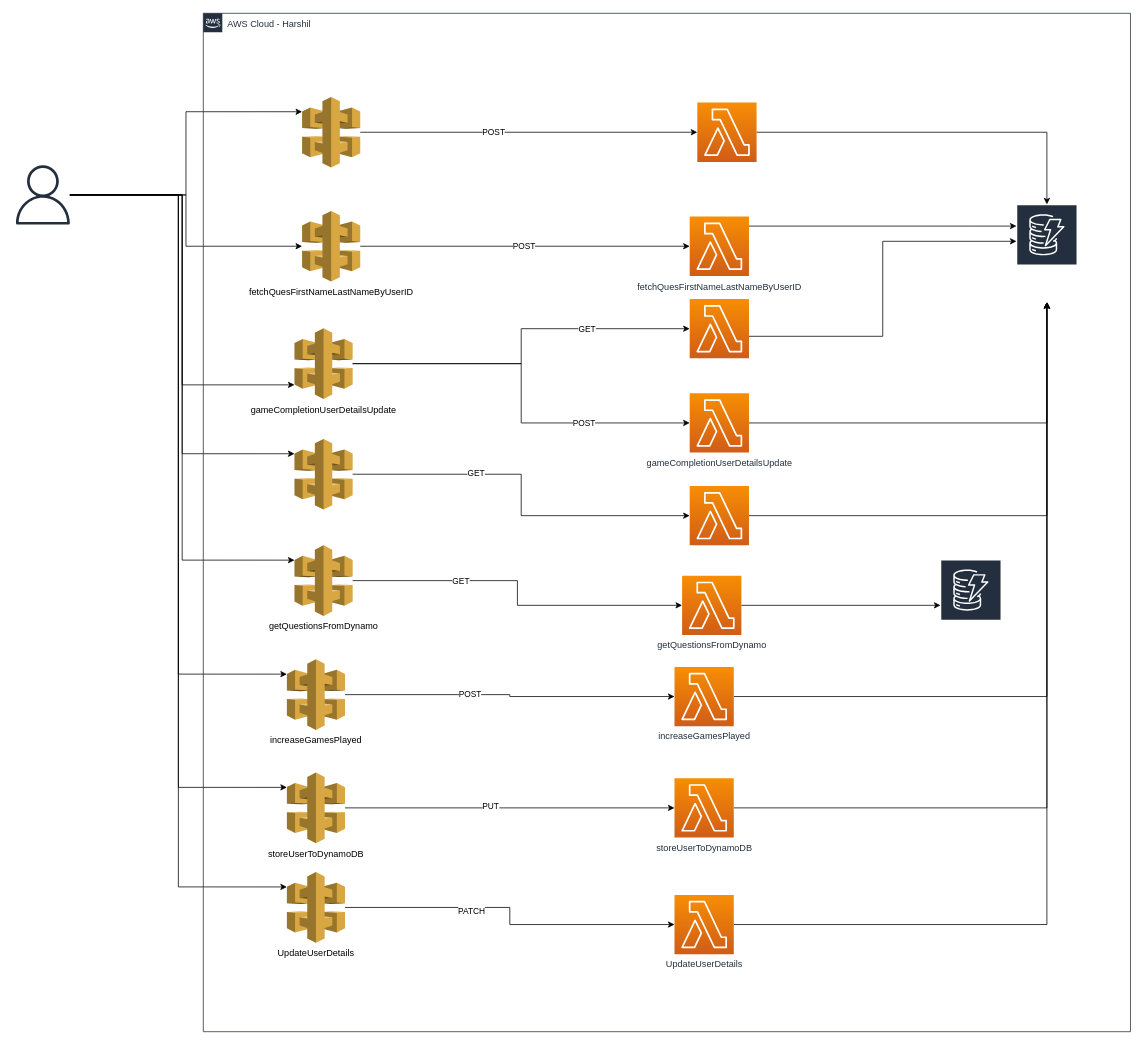
The diagram is 1144 pixels wide and 1045 high, and some of its shapes have lost their labels. Here are the shapes that lost their labels. From the top down, the box of each, then its label:
(301, 96, 360, 168): check_security_question_dynamo
(697, 102, 757, 162): CheckSecurityQuestions
(1016, 204, 1077, 302): Amazon DynamoDB Users
(689, 298, 749, 358): getGameDetailsByUserID
(294, 438, 353, 510): getAllUsers
(689, 485, 749, 545): getAllUsersSDP
(940, 559, 1001, 651): Amazon DynamoDB sdpQuestions
